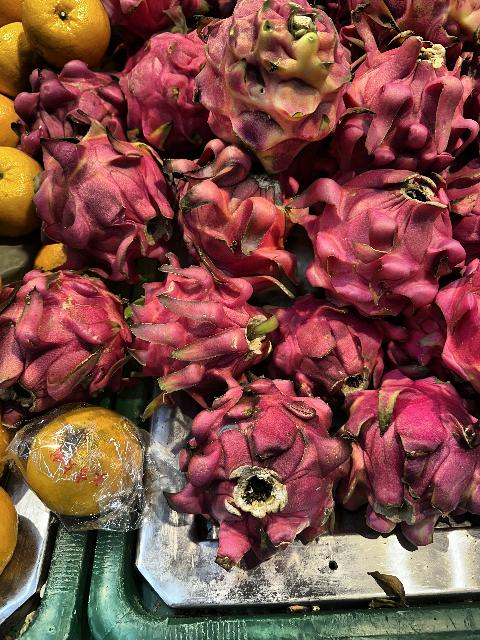buah-naga-belum-matang: (192, 0, 354, 154)
buah-naga-matang: (168, 383, 348, 564), (302, 157, 464, 315), (332, 374, 480, 546), (0, 258, 130, 416), (24, 132, 180, 256), (344, 18, 472, 162), (128, 269, 270, 386), (174, 148, 290, 290), (278, 268, 382, 406), (12, 54, 114, 148), (123, 38, 210, 146)
